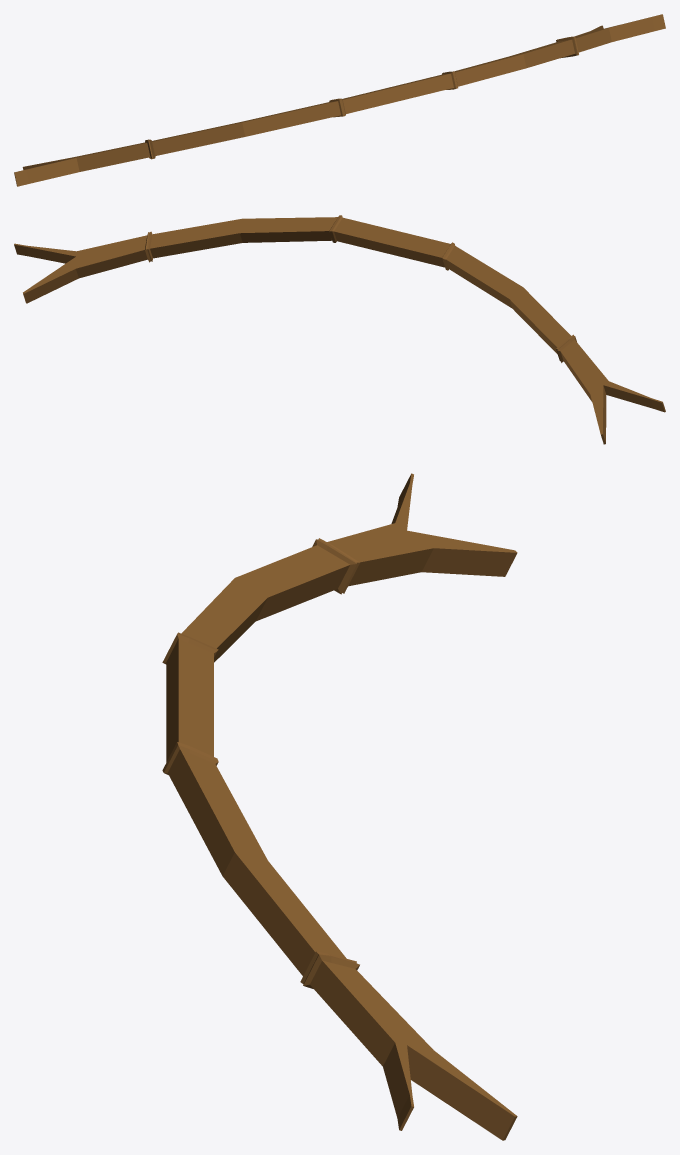
File: SM_catapult_part_02.fbx
3 views of the same model, one above another, from view 1: azimuth 30°, elevation 25°; view 2: azimuth 150°, elevation 25°; view 3: azimuth 270°, elevation 25° (orthographic). The views are drawn at different scales.
Parts seen in each view (by area): view 1: catapult_part_02; view 2: catapult_part_02; view 3: catapult_part_02.
Boxes of the visible parts, x1,y1,x2,y2 form: catapult_part_02: (14, 14, 665, 186); catapult_part_02: (14, 215, 665, 444); catapult_part_02: (162, 473, 517, 1140).
Bounding box in the file's own units: 463 × 58.27 × 110.
